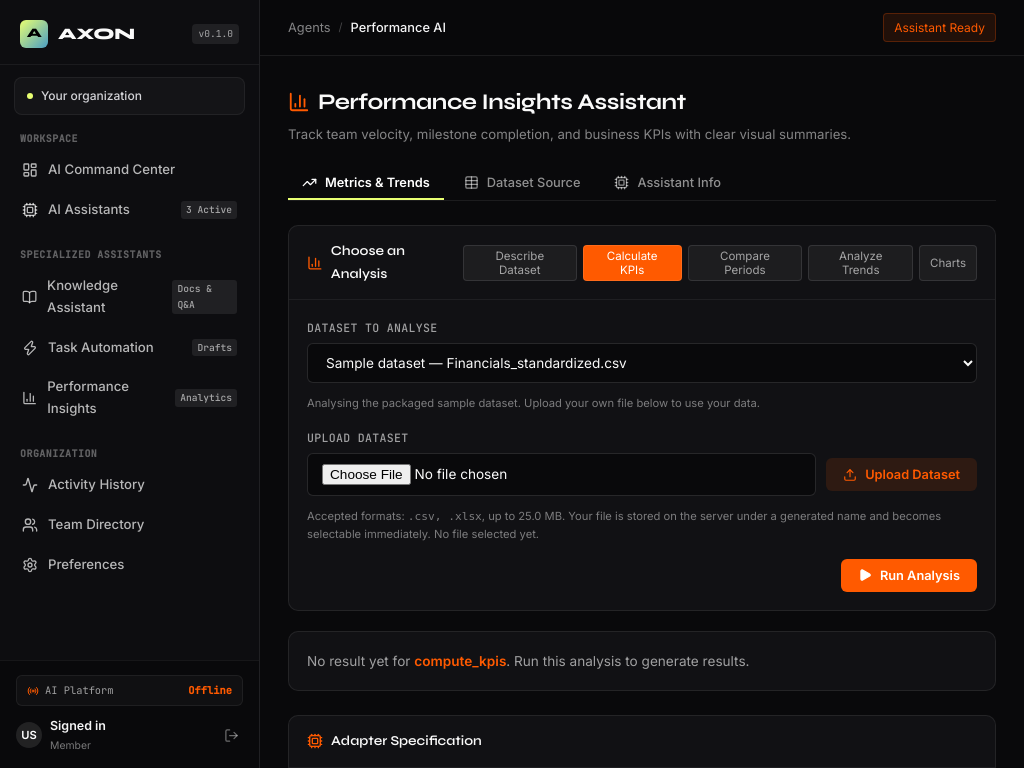
it: PerformanceAIPage dataset selection › names the dataset that will be analysed
This screenshot has width=1024, height=768.
Select "Financials.csv — 3 columns" in the dropdown labelled "Dataset to Analyse" at (642, 363), box [307, 343, 977, 383]
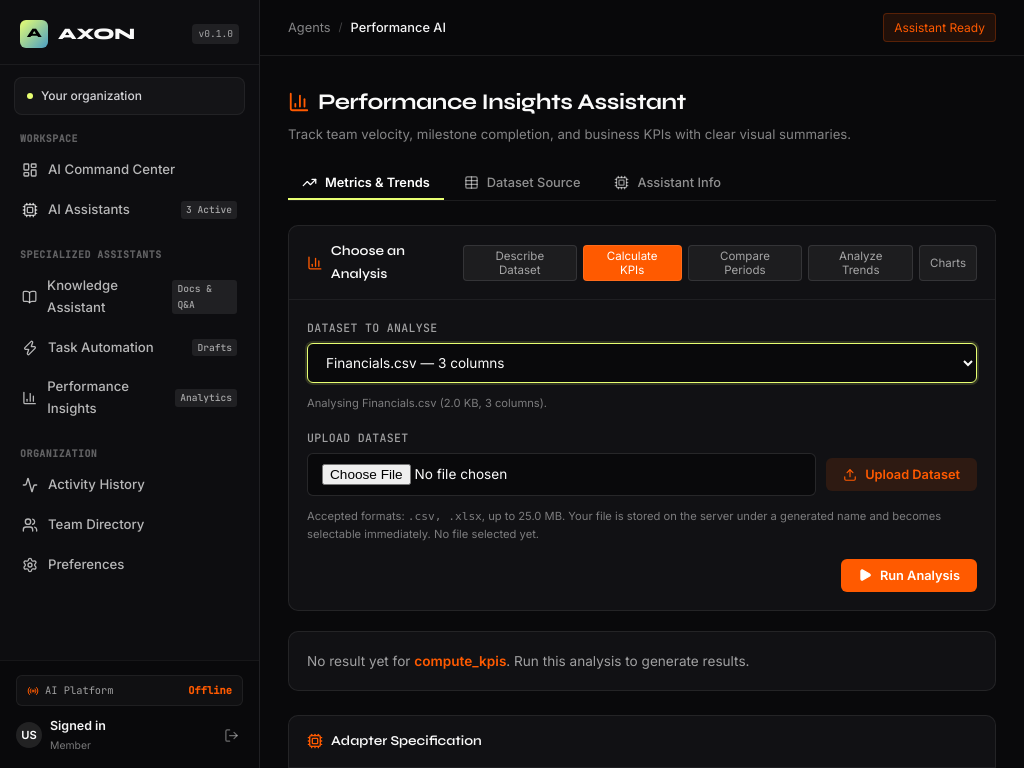
Now the text "Analysing Financials.csv (2.0 KB, 3 columns)." is shown, box [307, 396, 547, 410]
